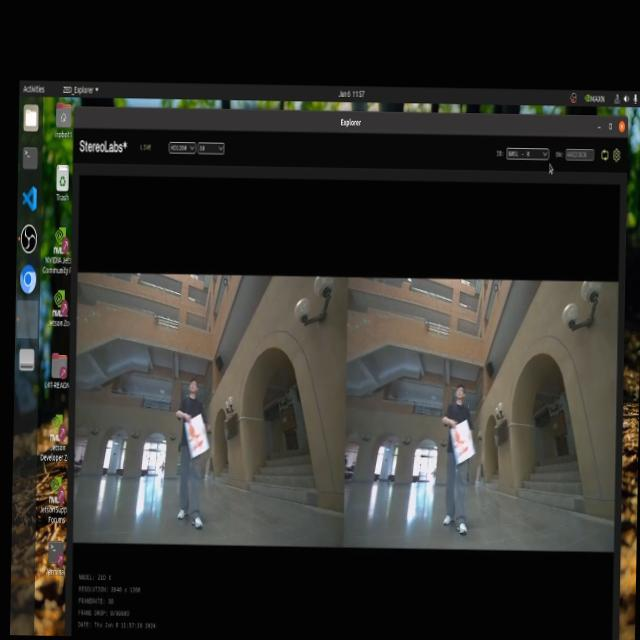red: (450, 428, 474, 466), (185, 420, 209, 456)
